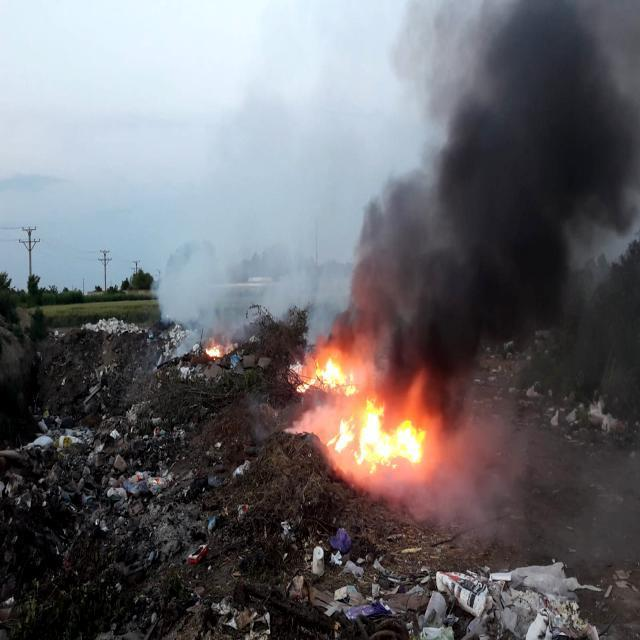Fire: (343, 394, 431, 479), (288, 351, 348, 398)
Smoke: (339, 11, 640, 459)
